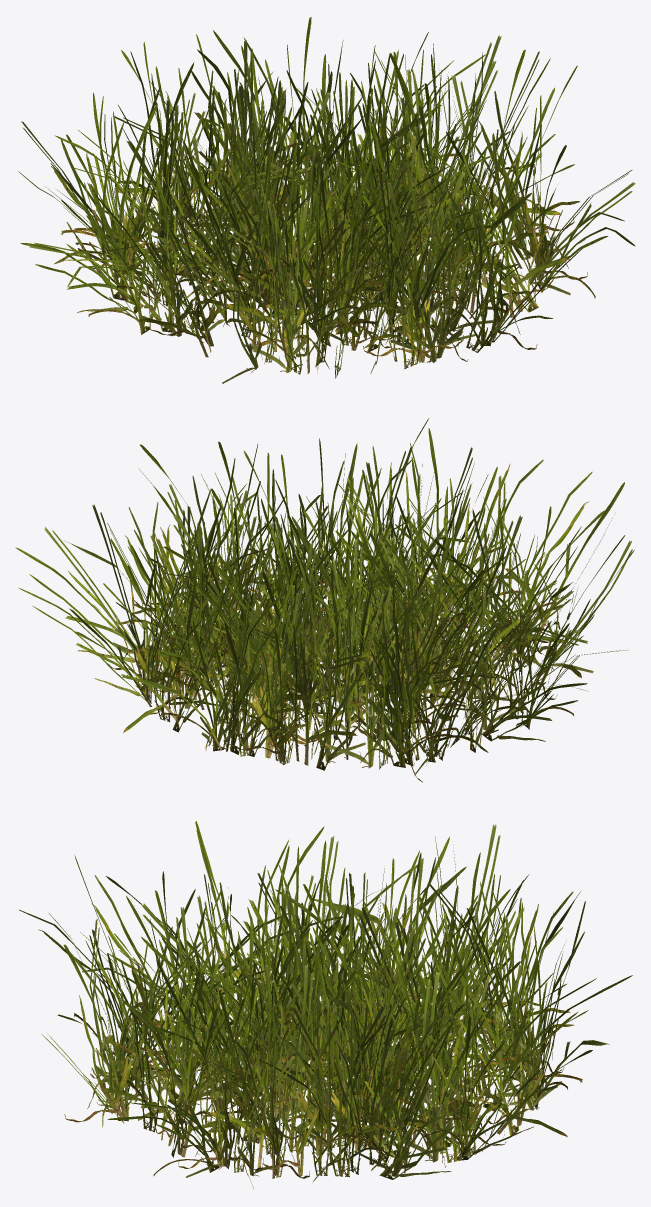
The picture shows the model from 3 angles, top to bottom: view 1: azimuth 30°, elevation 25°; view 2: azimuth 150°, elevation 25°; view 3: azimuth 270°, elevation 25°; orthographic projection. The views are drawn at different scales.
Visible parts, largest first — view 1: gm; view 2: gm; view 3: gm.
Part boxes in pixels (x1=…): gm: x1=18, y1=17, x2=635, y2=383; gm: x1=15, y1=418, x2=634, y2=782; gm: x1=19, y1=821, x2=632, y2=1188.
Bounding box in the file's own units: 3205 × 1039 × 2926.
Materials: 1 (1 with a texture image).
